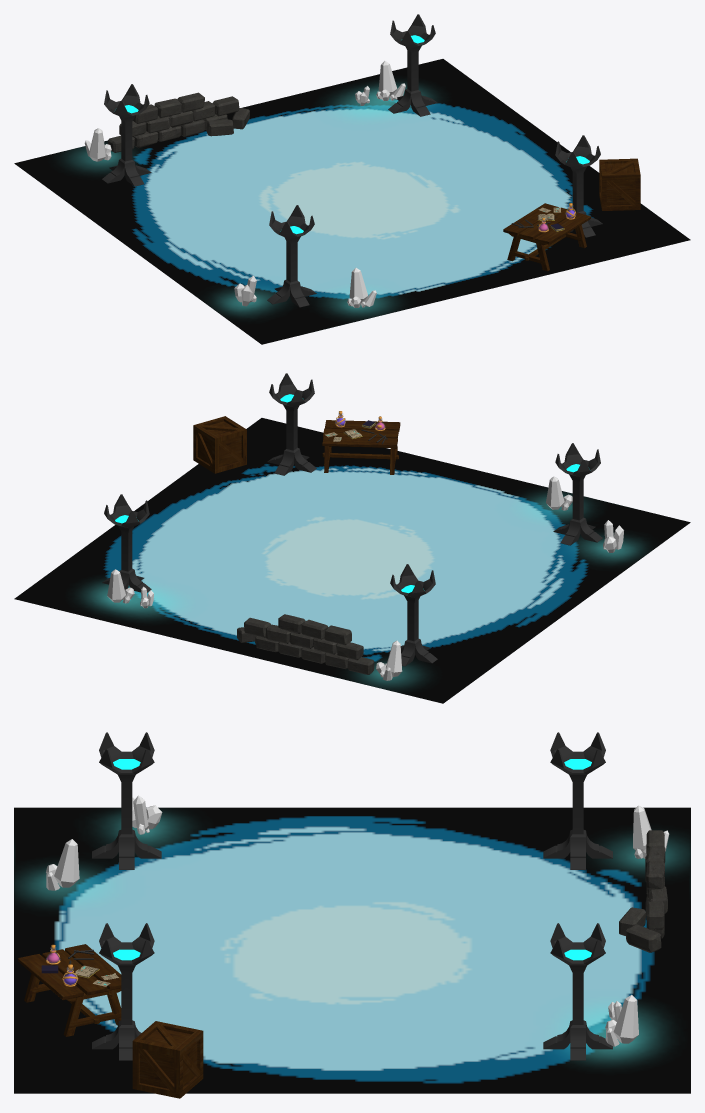
File: gnd.glb
3 views of the same model, one above another, from view 1: azimuth 30°, elevation 25°; view 2: azimuth 150°, elevation 25°; view 3: azimuth 270°, elevation 25° (orthographic). The views are drawn at different scales.
Visible parts, largest first — view 1: Ground, Bricks, Table, Crate, Torch.001, Torch.003, Torch, Torch.002, Crystal.002, Crystal.004, Crystal.003; view 2: Ground, Bricks, Crate, Table, Torch.003, Torch.002, Torch.001, Torch, Crystal.003, Crystal.004, Crystal.002, Crystal; view 3: Ground, Crate, Table, Torch.001, Torch.003, Torch, Bricks, Torch.002, Crystal.002, Crystal.004, Crystal.003, Crystal.
Part boxes in pixels (x1,y1,x2,y2): Ground: (14, 59, 690, 344); Bricks: (108, 92, 249, 152); Table: (503, 203, 590, 271); Crate: (599, 158, 640, 210); Torch.001: (102, 84, 151, 186); Torch.003: (267, 205, 316, 307); Torch: (388, 14, 437, 116); Torch.002: (555, 135, 602, 237); Crystal.002: (347, 268, 376, 307); Crystal.004: (376, 61, 405, 100); Crystal.003: (84, 128, 111, 161); Ground: (14, 418, 690, 703); Bricks: (237, 614, 374, 674); Crate: (193, 416, 246, 473); Table: (322, 420, 400, 474); Torch.003: (553, 443, 602, 545); Torch.002: (267, 373, 316, 475); Torch.001: (388, 564, 437, 666); Torch: (102, 494, 151, 592); Crystal.003: (376, 640, 402, 680); Crystal.004: (107, 569, 134, 603); Crystal.002: (546, 476, 572, 510); Crystal: (603, 520, 623, 552); Ground: (14, 807, 690, 1093); Crate: (132, 1021, 203, 1098); Table: (18, 944, 121, 1036); Torch.001: (543, 732, 612, 869); Torch.003: (92, 732, 161, 869); Torch: (543, 923, 612, 1060); Bricks: (619, 830, 667, 952); Torch.002: (92, 923, 154, 1060); Crystal.002: (46, 839, 79, 890); Crystal.004: (605, 995, 638, 1046); Crystal.003: (633, 805, 669, 858); Crystal: (132, 795, 162, 834).
Bounding box in the file's own units: 15.27 × 3.02 × 15.
13 materials, 4 textured.
